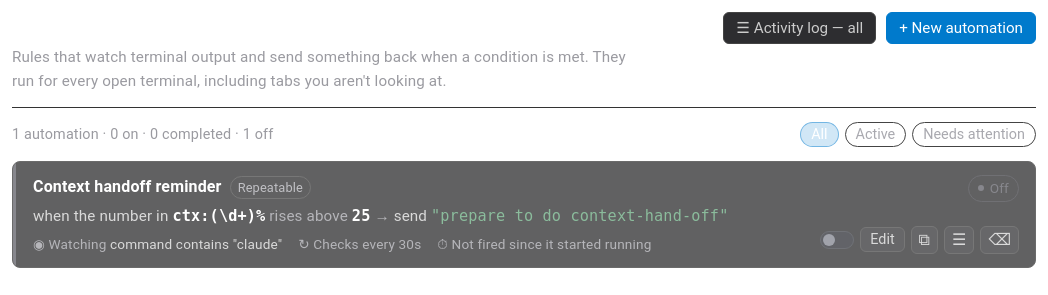
Test: AutomationsPanel › a filter that hides everything says so differently from having nothing
Step 1. Click the button "Active" → (875, 135), box [844,122,906,147]
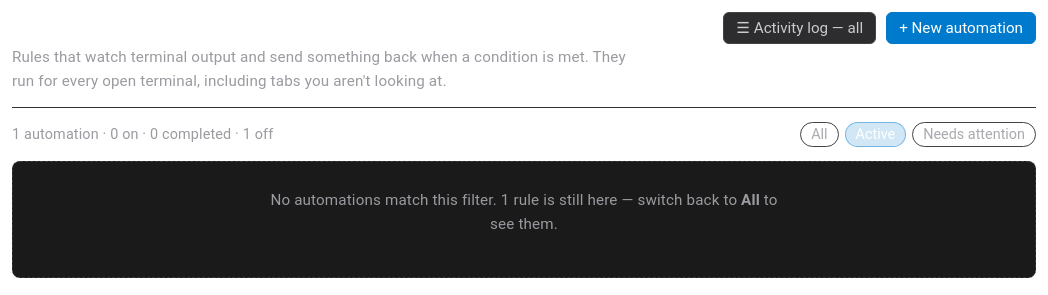
Now the element with class "au-empty" shows "No automations match this filter", box [270,191,501,209]
